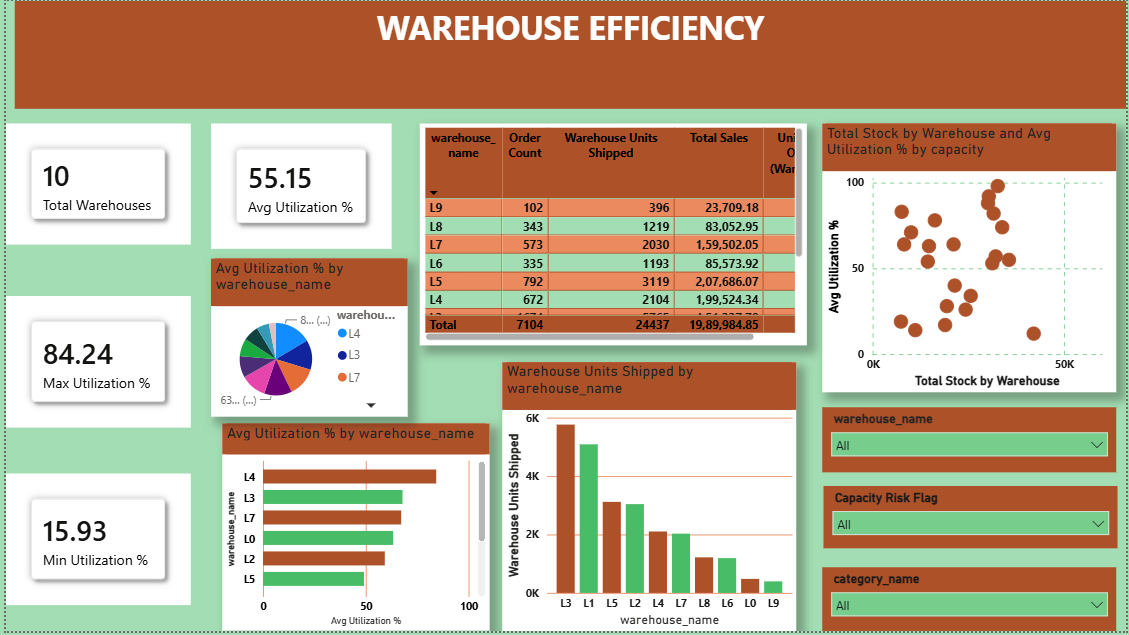

The dashboard page shown, as its layout file describes it:
{"tool":"powerbi","page":{"name":"Page 6","canvas":[1280,720],"ordinal":5},"visuals":[{"type":"cardVisual","fields":{"Data":["Dim_Warehouse.Total Warehouses"]},"box":[0,140.2,211.2,138.5],"z":0},{"type":"cardVisual","fields":{"Data":["Dim_Warehouse.Max Utilization %"]},"box":[0,337.8,211.2,150.3],"z":1000},{"type":"cardVisual","fields":{"Data":["Dim_Warehouse.Min Utilization %"]},"box":[0,540.5,211.2,150.3],"z":2000},{"type":"cardVisual","fields":{"Data":["Dim_Warehouse.Avg Utilization %"]},"box":[234.8,140.2,206.1,143.6],"z":3000},{"type":"barChart","fields":{"Y":["Dim_Warehouse.Avg Utilization %"],"Category":["Dim_Warehouse.warehouse_name"]},"box":[246.6,483.1,305.7,236.5],"z":4000},{"type":"scatterChart","fields":{"X":["Dim_Warehouse.Total Stock by Warehouse"],"Y":["Dim_Warehouse.Avg Utilization %"],"Category":["Dim_Warehouse.capacity"]},"box":[932.4,140.2,336.2,307.4],"z":5000},{"type":"pieChart","fields":{"Y":["Dim_Warehouse.Avg Utilization %"],"Category":["Dim_Warehouse.warehouse_name"]},"box":[234.8,293.9,224.7,180.7],"z":6000},{"type":"columnChart","fields":{"Y":["Dim_Warehouse.Warehouse Units Shipped"],"Category":["Dim_Warehouse.warehouse_name"]},"box":[567.6,412.2,336.2,307.4],"z":7000},{"type":"slicer","fields":{"Values":["Dim_Warehouse.warehouse_name"]},"box":[932.4,464.5,336.2,74.3],"z":8000},{"type":"slicer","fields":{"Values":["Dim_Warehouse.Capacity Risk Flag"]},"box":[934.1,554.1,336.2,70.9],"z":9000},{"type":"slicer","fields":{"Values":["Fact_table.category_name"]},"box":[932.4,647,336.2,72.6],"z":10000},{"type":"tableEx","fields":{"Values":["Dim_Warehouse.warehouse_name","Fact_table.Order Count","Dim_Warehouse.Warehouse Units Shipped","Fact_table.Total Sales","Dim_Warehouse.Units per Order (Warehouse)"]},"box":[473,140.2,442.6,253.4],"z":11000},{"type":"textbox","box":[10.1,0,1270.3,123.3],"z":12000}]}

Visuals, with their boxes in screenshot pixels (x1, y1, x2, y2), scaled from the page's 1280x720 canvas onto the 1129x635 screenshot:
cardVisual - Dim_Warehouse.Total Warehouses: detection(0, 124, 186, 246)
cardVisual - Dim_Warehouse.Max Utilization %: detection(0, 298, 186, 430)
cardVisual - Dim_Warehouse.Min Utilization %: detection(0, 477, 186, 609)
cardVisual - Dim_Warehouse.Avg Utilization %: detection(207, 124, 389, 250)
barChart - Dim_Warehouse.Avg Utilization % x Dim_Warehouse.warehouse_name: detection(218, 426, 487, 634)
scatterChart - Dim_Warehouse.Total Stock by Warehouse x Dim_Warehouse.Avg Utilization %: detection(822, 124, 1119, 395)
pieChart - Dim_Warehouse.Avg Utilization % x Dim_Warehouse.warehouse_name: detection(207, 259, 405, 419)
columnChart - Dim_Warehouse.Warehouse Units Shipped x Dim_Warehouse.warehouse_name: detection(501, 364, 797, 634)
slicer - Dim_Warehouse.warehouse_name: detection(822, 410, 1119, 475)
slicer - Dim_Warehouse.Capacity Risk Flag: detection(824, 489, 1120, 551)
slicer - Fact_table.category_name: detection(822, 571, 1119, 634)
tableEx - Dim_Warehouse.warehouse_name x Fact_table.Order Count: detection(417, 124, 808, 347)
textbox: detection(9, 0, 1128, 109)
